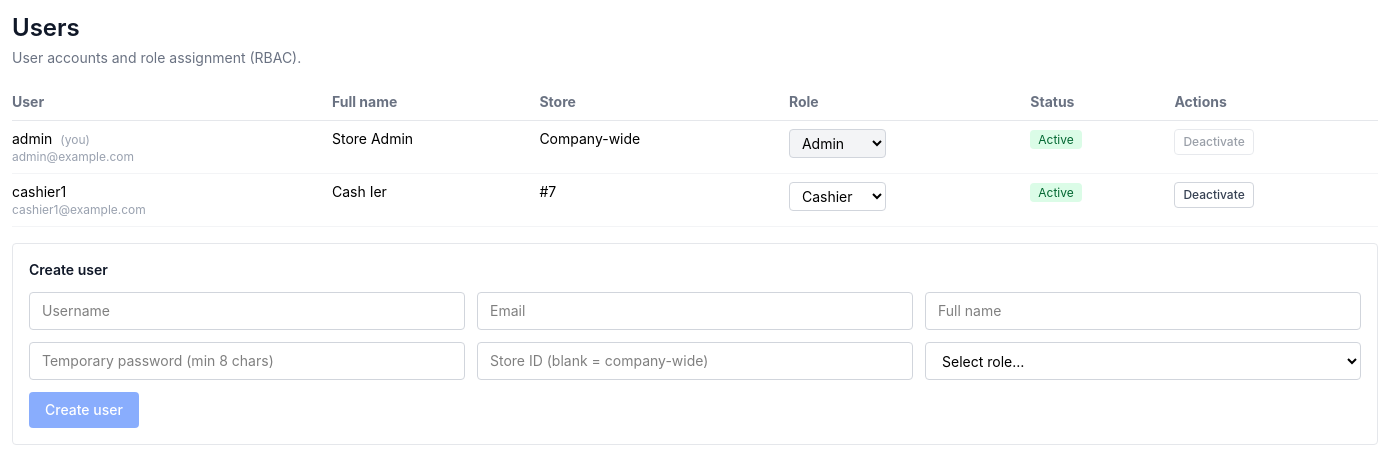
Test: UsersPage › surfaces the backend privilege-escalation refusal instead of hiding it
Expected: the heading "Users" is shown, x1=12 y1=13 x2=80 y2=42
Expected: the text "cashier1" is shown, x1=12 y1=183 x2=66 y2=200
Select "Admin" in the dropdown in the row of "cashier1@example.com": (838, 196) x1=789 y1=182 x2=886 y2=211
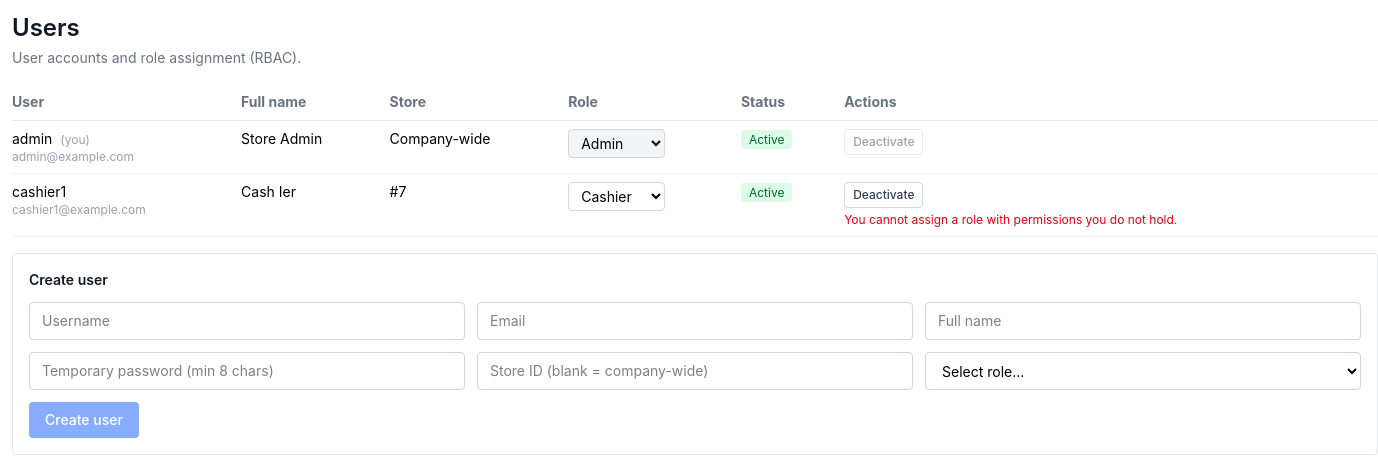
Now the text "You cannot assign a role with permissions you do not hold." is shown, box x1=844 y1=212 x2=1177 y2=227
